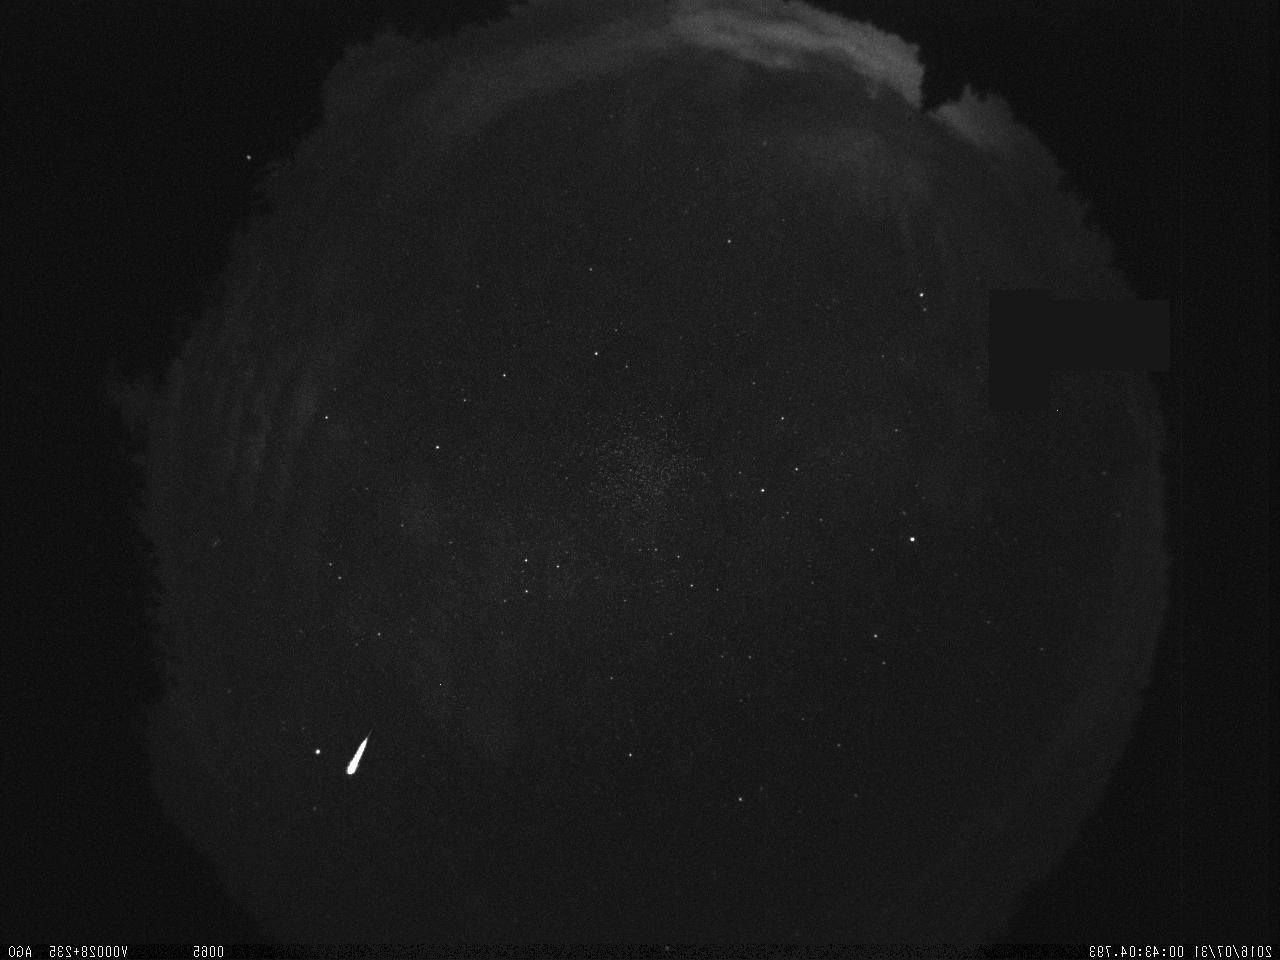meteor: (334, 715, 386, 790)
